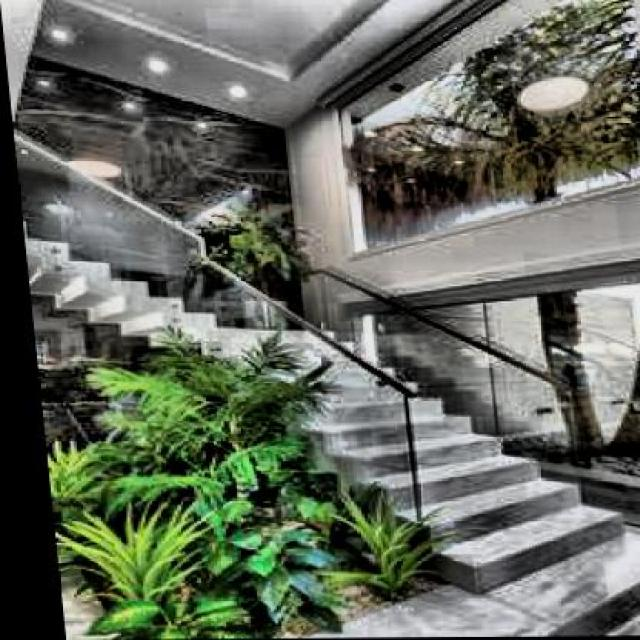stair: (218, 331, 631, 592)
